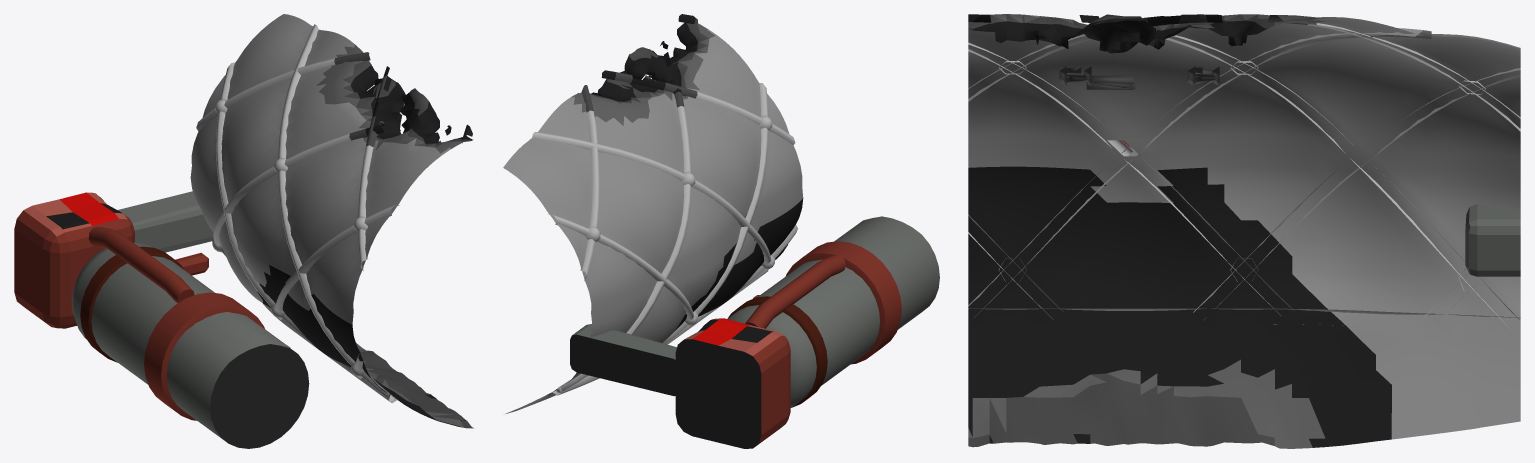
File: zeppelin_85.glb
The picture shows the model from 3 angles, left to right: view 1: azimuth 30°, elevation 25°; view 2: azimuth 150°, elevation 25°; view 3: azimuth 270°, elevation 25°; orthographic projection. The views are drawn at different scales.
Visible parts, largest first — view 1: envelope.001, gun_body.001, net_ropes.001, gun_mount.001, gun_band.001, gun_strut.001, gun_pipe_top.001, gun_band3.001, net_knots.001, gun_rod.001; view 2: envelope.001, gun_body.001, gun_mount.001, net_ropes.001, gun_strut.001, gun_band.001, gun_pipe_top.001, gun_band3.001, net_knots.001, net_load.001; view 3: envelope.001, net_ropes.001, gun_strut.001, framework.001, net_load.001.
Part boxes in pixels (bbox=[...]): envelope.001: bbox=[190, 14, 473, 428]; gun_body.001: bbox=[71, 242, 309, 448]; net_ropes.001: bbox=[196, 24, 472, 401]; gun_mount.001: bbox=[14, 192, 134, 328]; gun_band.001: bbox=[144, 292, 265, 420]; gun_strut.001: bbox=[117, 191, 213, 252]; gun_pipe_top.001: bbox=[88, 226, 194, 303]; gun_band3.001: bbox=[80, 246, 184, 362]; net_knots.001: bbox=[212, 98, 367, 376]; gun_rod.001: bbox=[175, 252, 208, 275]; envelope.001: bbox=[503, 22, 803, 413]; gun_body.001: bbox=[728, 216, 939, 407]; gun_mount.001: bbox=[675, 318, 790, 448]; net_ropes.001: bbox=[532, 14, 797, 392]; gun_strut.001: bbox=[570, 324, 680, 396]; gun_band.001: bbox=[786, 241, 901, 364]; gun_pipe_top.001: bbox=[745, 254, 845, 328]; gun_band3.001: bbox=[727, 296, 827, 407]; net_knots.001: bbox=[585, 115, 775, 325]; net_load.001: bbox=[552, 270, 768, 395]; envelope.001: bbox=[968, 14, 1520, 448]; net_ropes.001: bbox=[968, 14, 1520, 328]; gun_strut.001: bbox=[1465, 204, 1520, 276]; framework.001: bbox=[1059, 66, 1219, 89]; net_load.001: bbox=[968, 308, 1520, 332].
Size of the model in its own units: 22.8 by 24.3 by 28.
